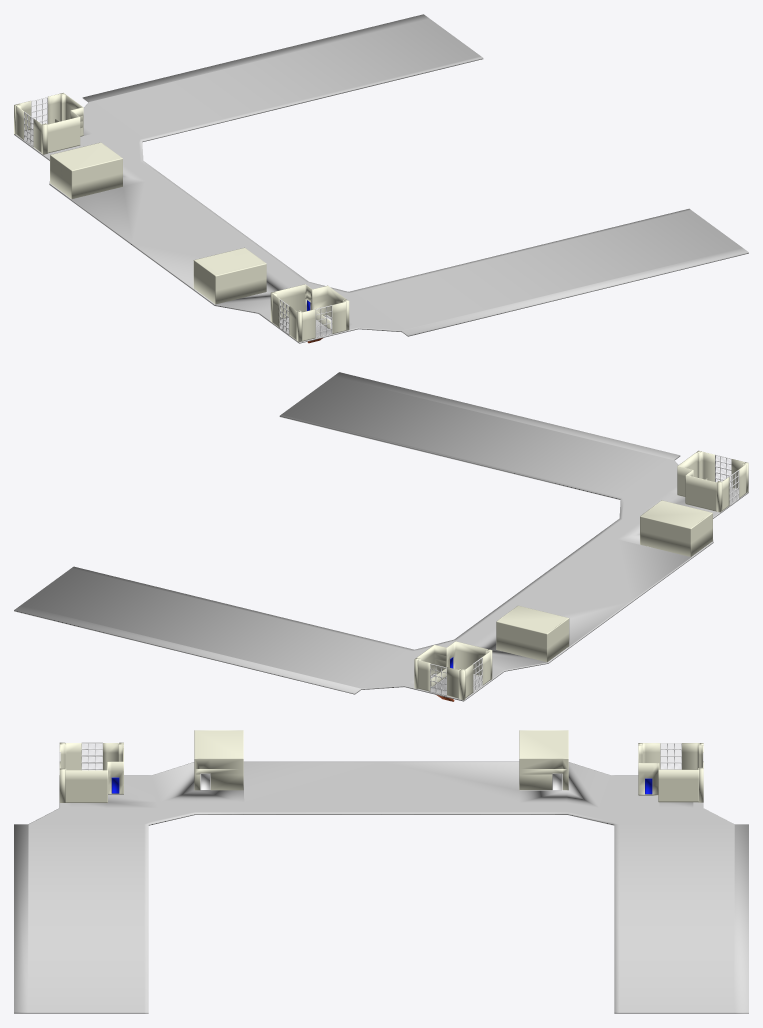
Rendered from Lantai 4.obj.
3 views of the same model, one above another, from view 1: azimuth 30°, elevation 25°; view 2: azimuth 150°, elevation 25°; view 3: azimuth 270°, elevation 25° (orthographic). The views are drawn at different scales.
Visible parts, largest first — view 1: Box461, SPMB_Surabaya, SPMB_Jatim, Box563, Box564; view 2: Box461, SPMB_Jatim, SPMB_Surabaya, Box564, Box563; view 3: Box461, SPMB_Jatim, SPMB_Surabaya, Box563, Box564.
Boxes of the visible parts, x1,y1,x2,y2 form: Box461: [14, 14, 748, 343]; SPMB_Surabaya: [270, 284, 349, 343]; SPMB_Jatim: [14, 93, 83, 154]; Box563: [193, 247, 266, 304]; Box564: [50, 142, 122, 198]; Box461: [14, 372, 748, 701]; SPMB_Jatim: [414, 641, 492, 701]; SPMB_Surabaya: [677, 450, 748, 512]; Box564: [496, 605, 569, 662]; Box563: [640, 500, 712, 556]; Box461: [14, 761, 748, 1013]; SPMB_Jatim: [638, 743, 703, 802]; SPMB_Surabaya: [59, 742, 123, 802]; Box563: [194, 730, 243, 790]; Box564: [519, 730, 568, 790].
Bounding box in the file's own units: 66.23 × 8.14 × 82.08.
